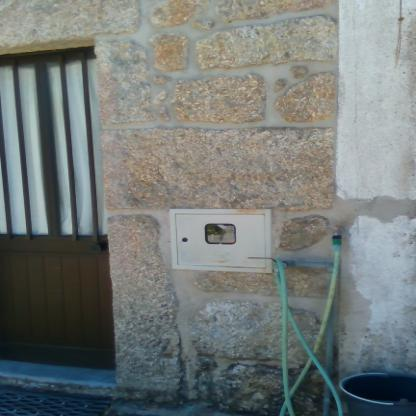door: (0, 51, 116, 370)
knob: (90, 244, 103, 254)
